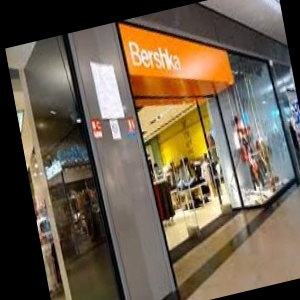bershka: (133, 26, 253, 70)
